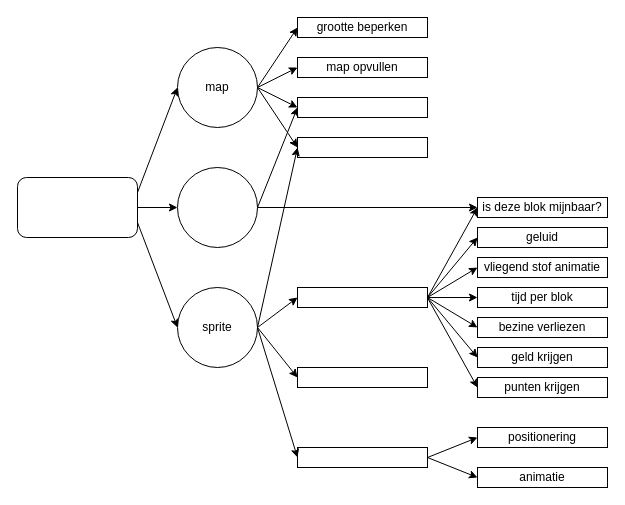
The diagram is 625 pixels wide and 505 high, and some of its shapes have lost their labels. The centre of each missing label's shape, as x and y in pixels:
"beweging" belongs at [362,457].
"blok" belongs at [217,207].
"level verhogen" belongs at [362,377].
"mijnen" belongs at [362,297].
"motherload_scene" belongs at [77,207].
"scrollen" belongs at [362,147].
"welke blok is het?" belongs at [362,107].
